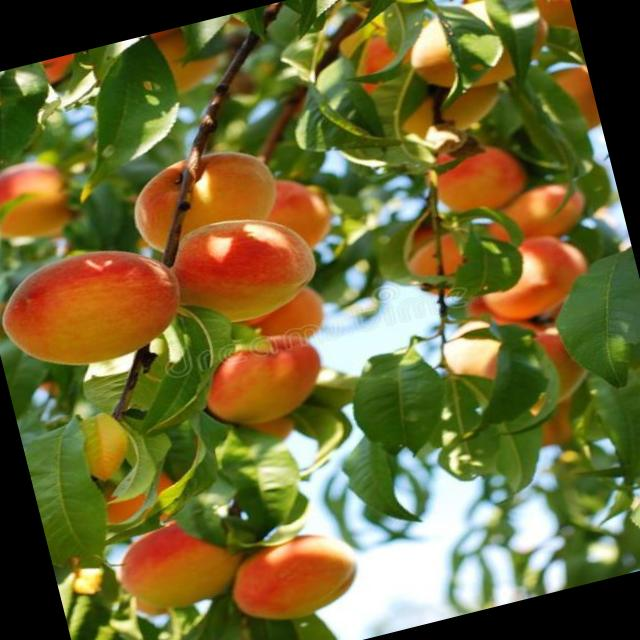Tao: (0, 231, 187, 379), (152, 208, 339, 342), (121, 137, 282, 255), (110, 504, 250, 614), (190, 326, 333, 433), (220, 522, 364, 626), (420, 0, 564, 99), (0, 140, 115, 261), (465, 224, 595, 328), (228, 271, 370, 366), (425, 132, 527, 218)
